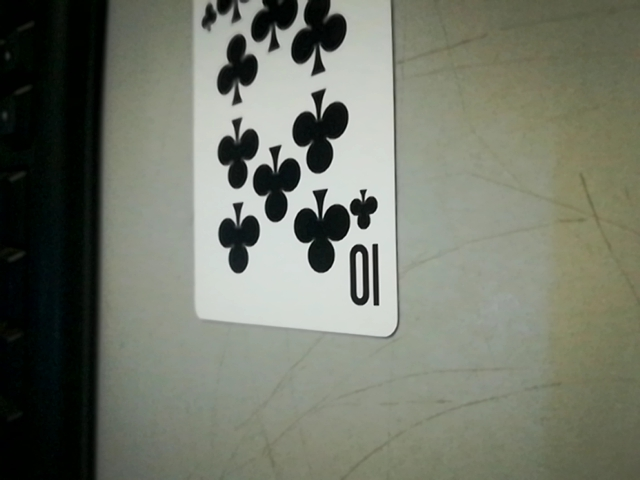mh 10: (342, 188, 393, 326)
